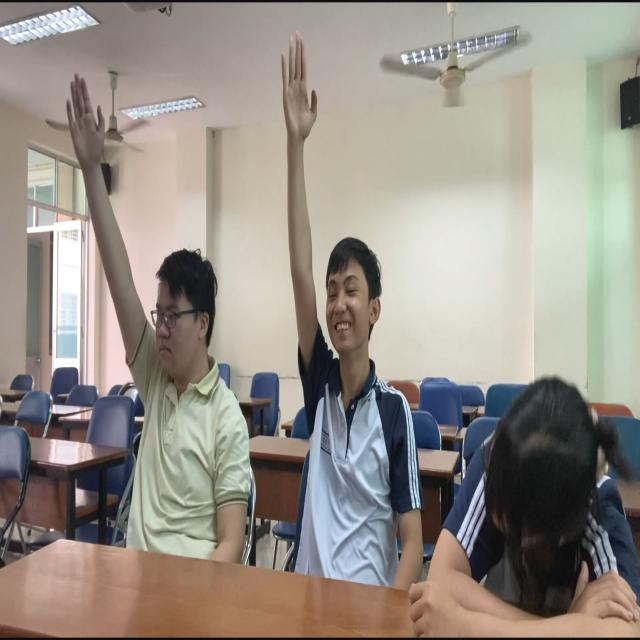raise_hand: (76, 73, 251, 569), (275, 26, 423, 599)
sleep: (410, 385, 640, 640)
